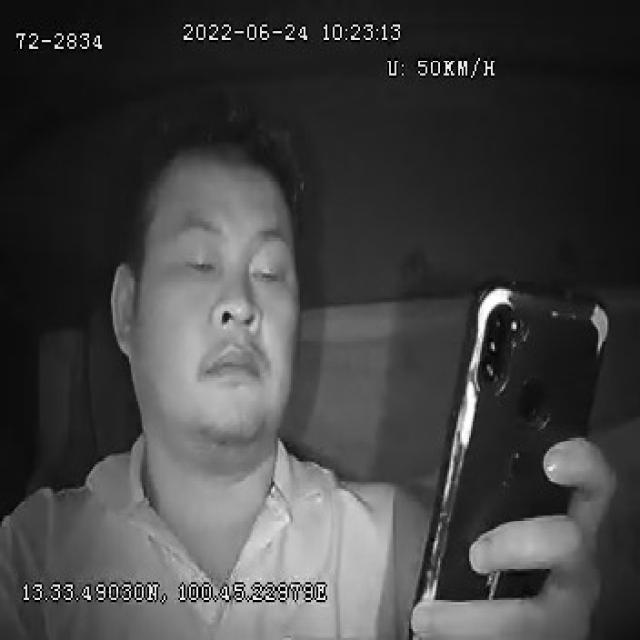phone: (412, 273, 610, 640)
